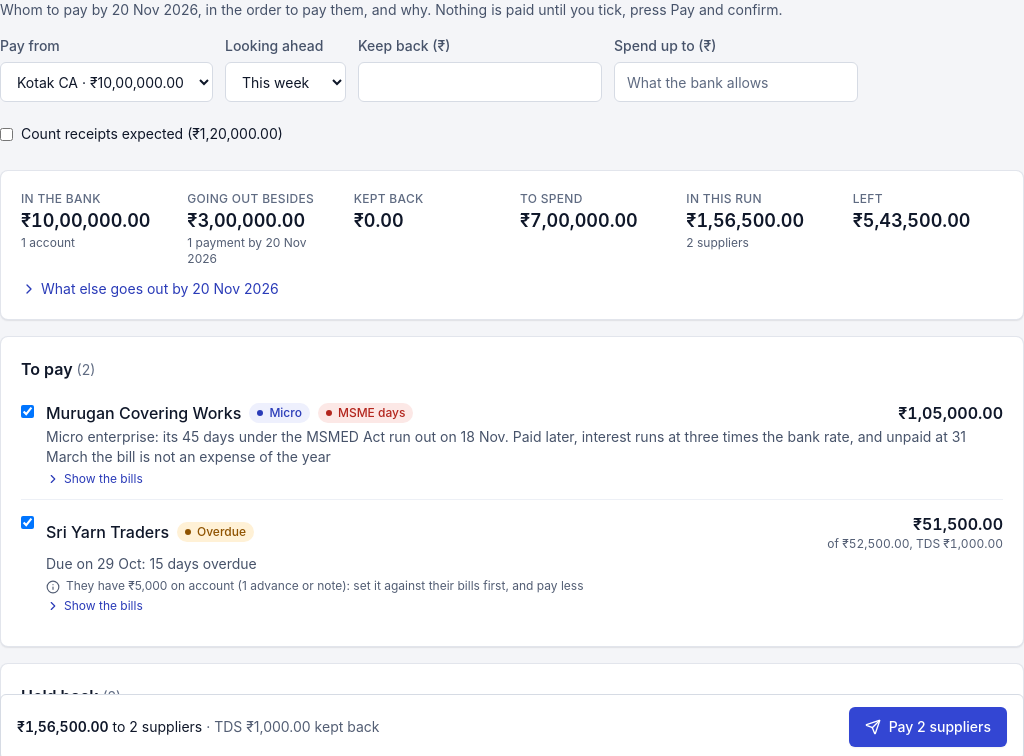
Test: pay this week › shows the run in order with why, the money it was worked out on, and who is held back and why
Expected: the list item that starts with "Murugan Covering Works" is shown, 46,401 -> 241,425
Expected: the list item that starts with "Murugan Covering Works" shows "MSME days", 338,405 -> 405,420
Click the button "What else goes out by 20 Nov 2026": [150, 289] box 21,279 -> 279,299
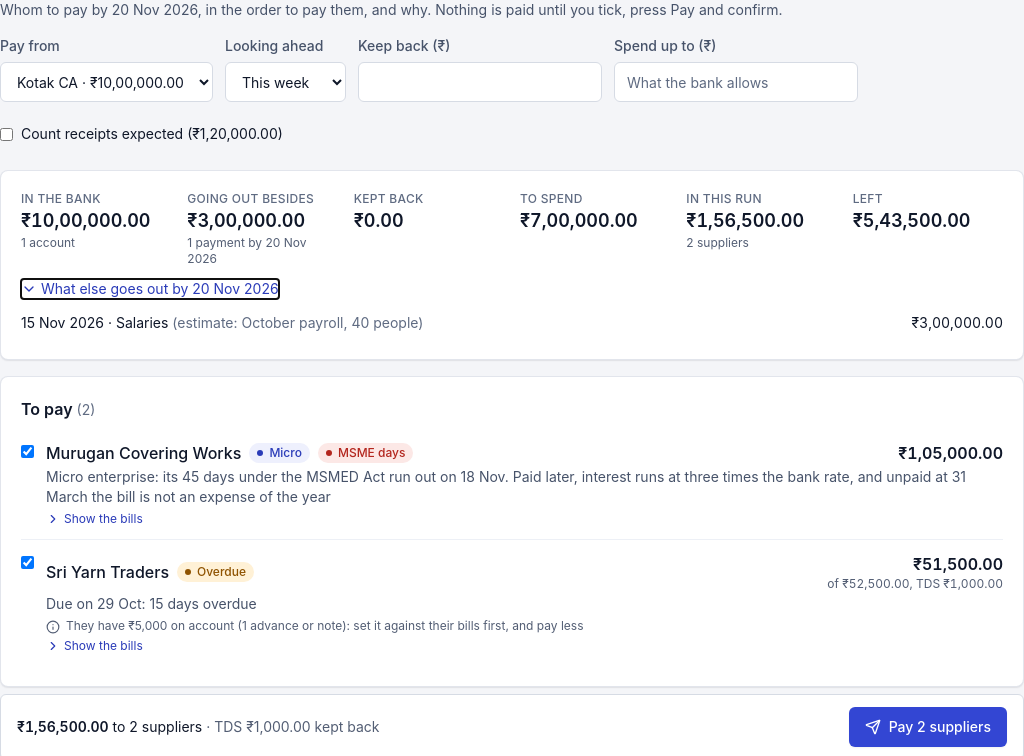
Expected: the button "Pay 2 suppliers" is enabled, 849,707 -> 1007,747
Now the list named "Going out besides" shows "Salaries (estimate: October payroll, 40 people)", box 21,314 -> 1003,331
